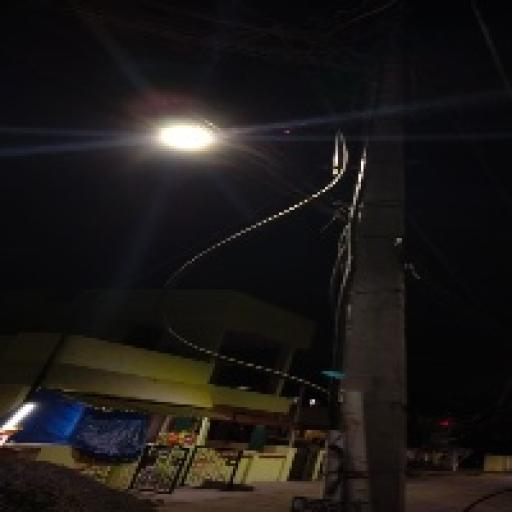Working: (150, 114, 229, 160)
